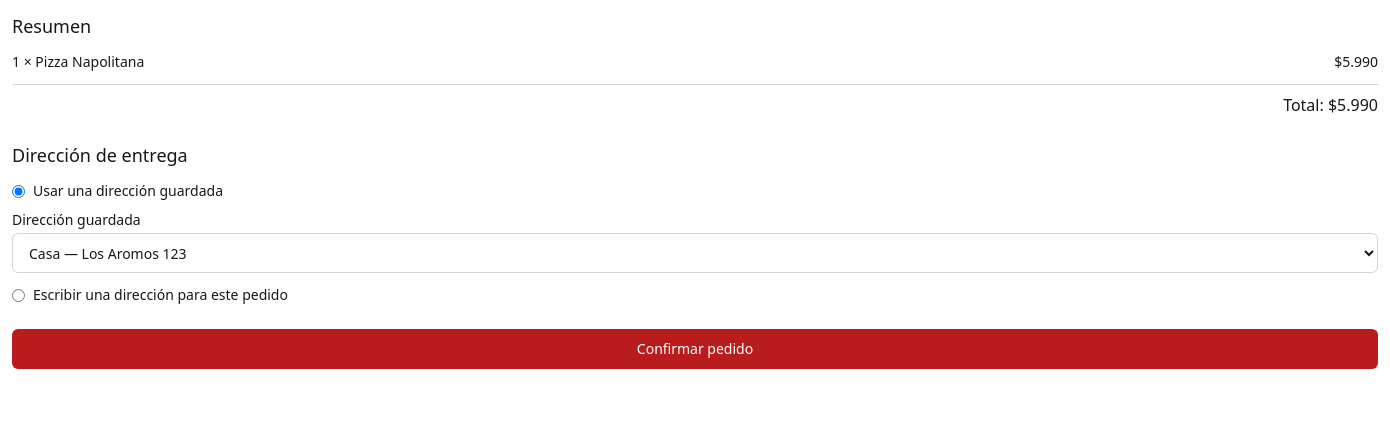
Test: Confirmar pedido (FR-022, FR-025, FR-028) › PRICE_CHANGED recarga el carrito, muestra el aviso y exige confirmar de nuevo
The image size is (1390, 448).
Click the button "Confirmar pedido": point(695, 349) [12,329,1378,369]
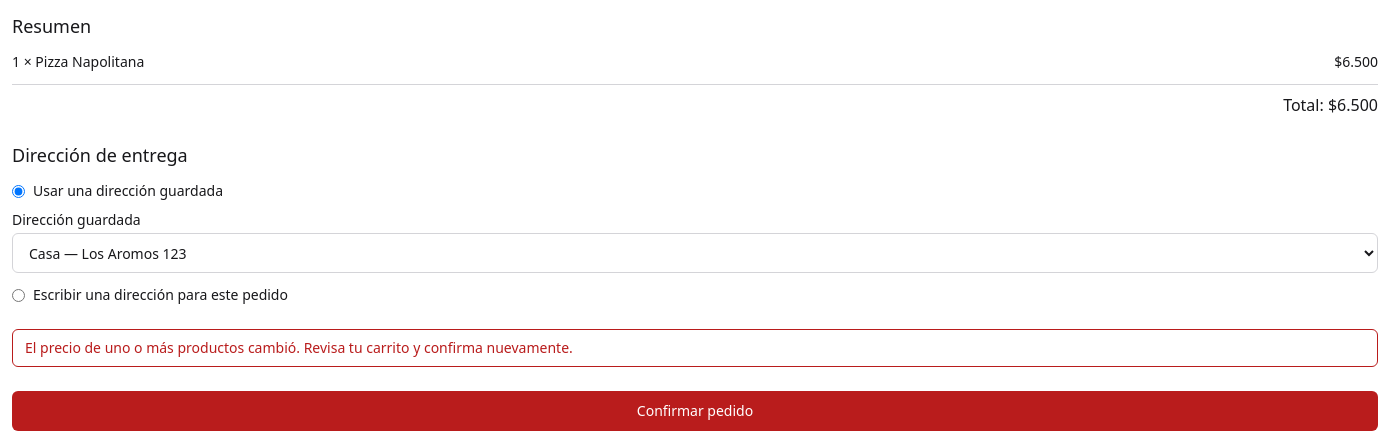
Result: the text "El precio de uno o más productos cambió. Revisa tu carrito y confirma nuevamente." is shown at [25,338,573,357]
Result: the text "$6.500" is shown at [1334,52,1378,72]
